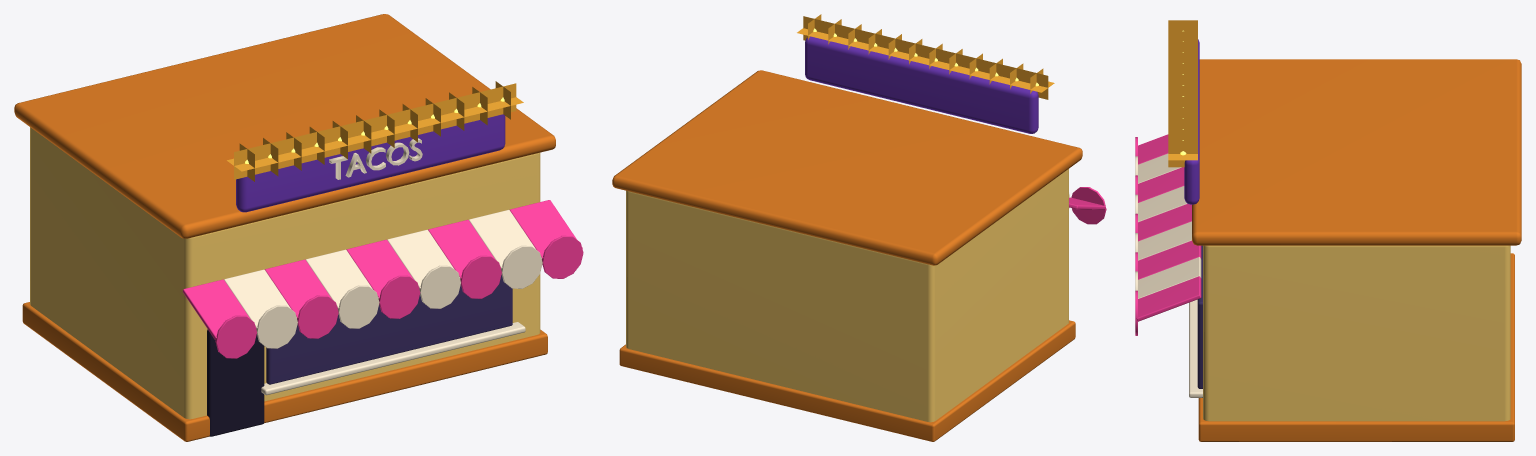
File: beach_shop_b.glb
The picture shows the model from 3 angles, left to right: view 1: azimuth 30°, elevation 25°; view 2: azimuth 150°, elevation 25°; view 3: azimuth 270°, elevation 25°; orthographic projection. The views are drawn at different scales.
Visible parts, largest first — view 1: Shop; view 2: Shop; view 3: Shop.
Boxes of the visible parts, x1,y1,x2,y2 form: Shop: (14, 14, 583, 441); Shop: (612, 14, 1106, 441); Shop: (1135, 20, 1521, 441).
Bounding box in the file's own units: 9.5 × 6.96 × 8.79.
